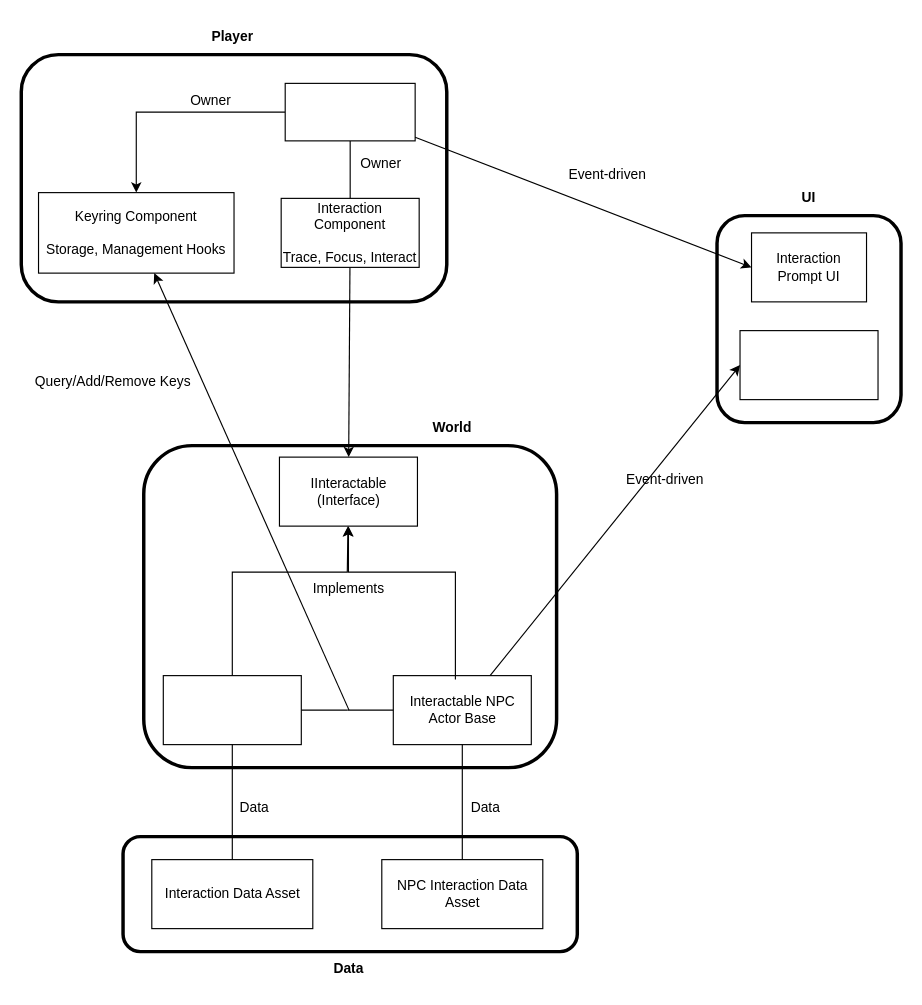
Some shapes in this 922 by 1005 pixel diagram are drawn without their labels. The shapes that lost their labels are listed below. From the top down, each one's centre as x and y in pixels, then its label:
the point at 349,111: Player Input / Focus
the point at 808,364: NPC Speech UI
the point at 231,709: Interactable Actor Base
